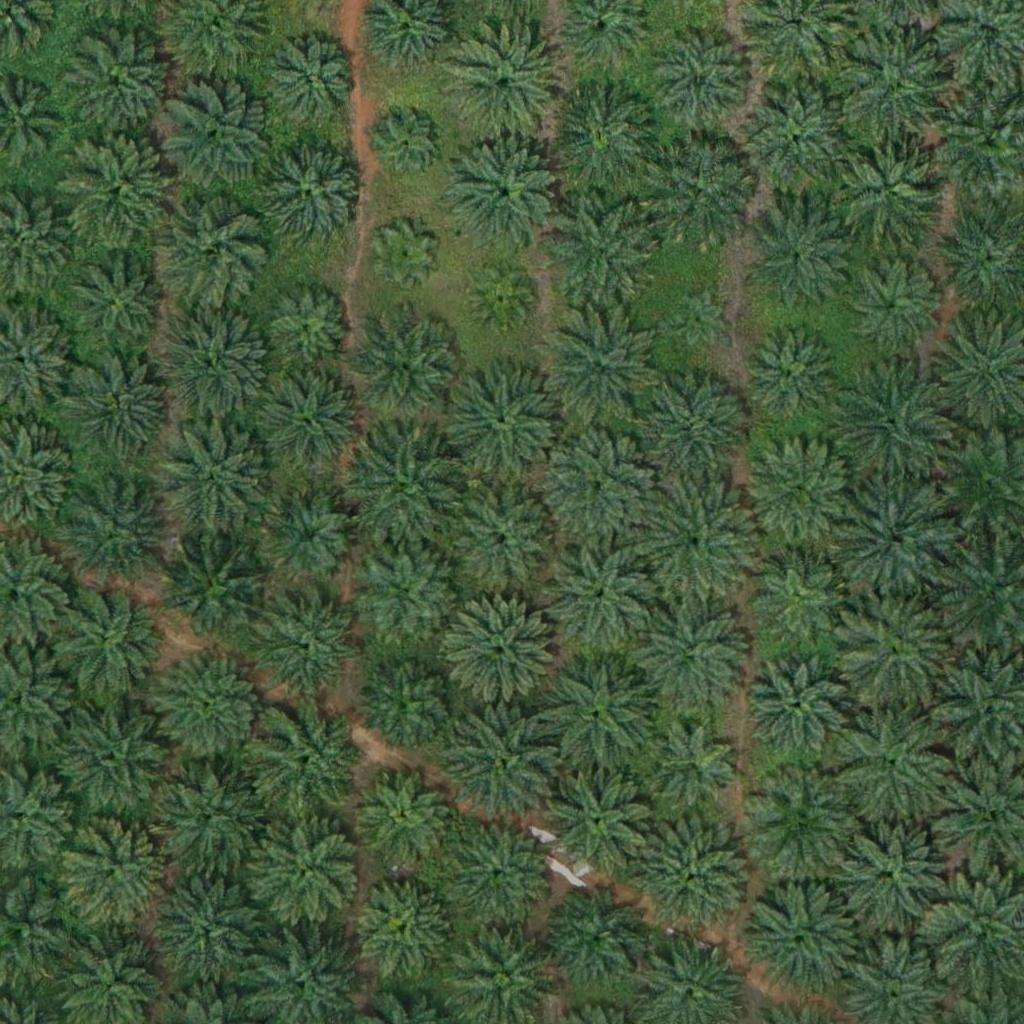Kelapa_Sawit: (837, 360, 950, 474), (743, 204, 856, 318), (162, 532, 275, 646), (47, 584, 160, 698), (154, 650, 267, 764), (252, 703, 365, 817), (249, 814, 362, 928), (61, 29, 174, 142), (447, 29, 560, 142), (841, 34, 954, 147), (832, 133, 945, 246), (837, 482, 950, 595), (741, 85, 854, 198), (540, 306, 653, 419), (544, 429, 657, 542), (449, 140, 562, 253), (446, 366, 559, 479), (154, 195, 267, 308), (158, 308, 271, 421), (159, 423, 272, 536), (59, 133, 172, 246), (61, 253, 174, 366), (150, 763, 263, 876), (446, 596, 559, 709), (539, 541, 652, 654), (542, 655, 655, 768), (543, 760, 656, 873), (637, 820, 750, 933), (747, 879, 860, 992), (838, 595, 951, 708), (643, 139, 755, 253), (546, 82, 658, 196), (57, 472, 169, 586), (744, 437, 856, 550), (638, 371, 750, 484), (640, 484, 752, 597), (549, 195, 661, 308), (446, 485, 558, 598), (350, 312, 462, 425), (349, 434, 461, 547), (258, 139, 370, 252), (252, 370, 364, 483), (158, 80, 270, 193), (62, 355, 174, 468), (59, 702, 171, 815), (60, 817, 172, 930), (157, 870, 269, 983), (444, 709, 556, 822), (442, 819, 554, 932), (634, 602, 746, 715), (746, 765, 858, 878), (840, 707, 952, 820), (838, 813, 950, 926), (260, 487, 360, 588), (360, 542, 460, 643), (361, 652, 461, 753), (545, 887, 645, 988), (645, 720, 745, 821), (749, 542, 849, 643), (745, 653, 845, 754), (652, 31, 752, 131), (842, 254, 942, 354), (740, 323, 840, 423), (263, 592, 363, 692), (359, 767, 459, 867), (355, 879, 455, 979), (267, 40, 355, 128), (264, 280, 352, 368), (470, 267, 533, 330), (378, 113, 441, 176), (373, 224, 436, 287), (667, 287, 729, 350)
